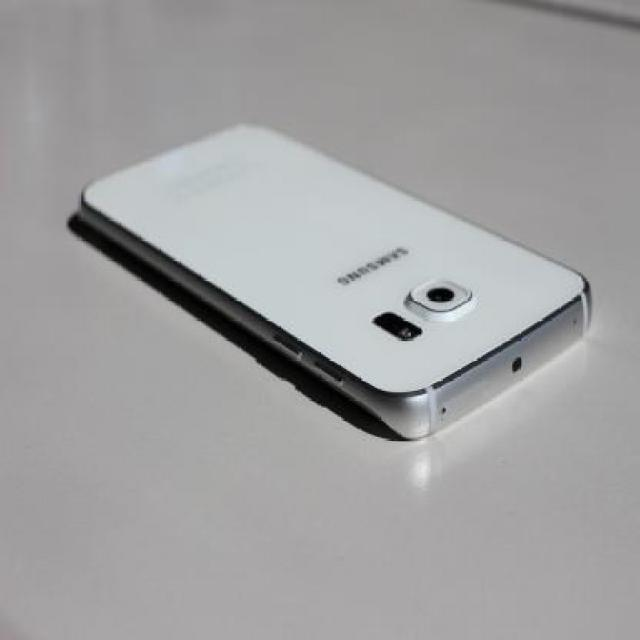phone: (49, 128, 585, 444)
